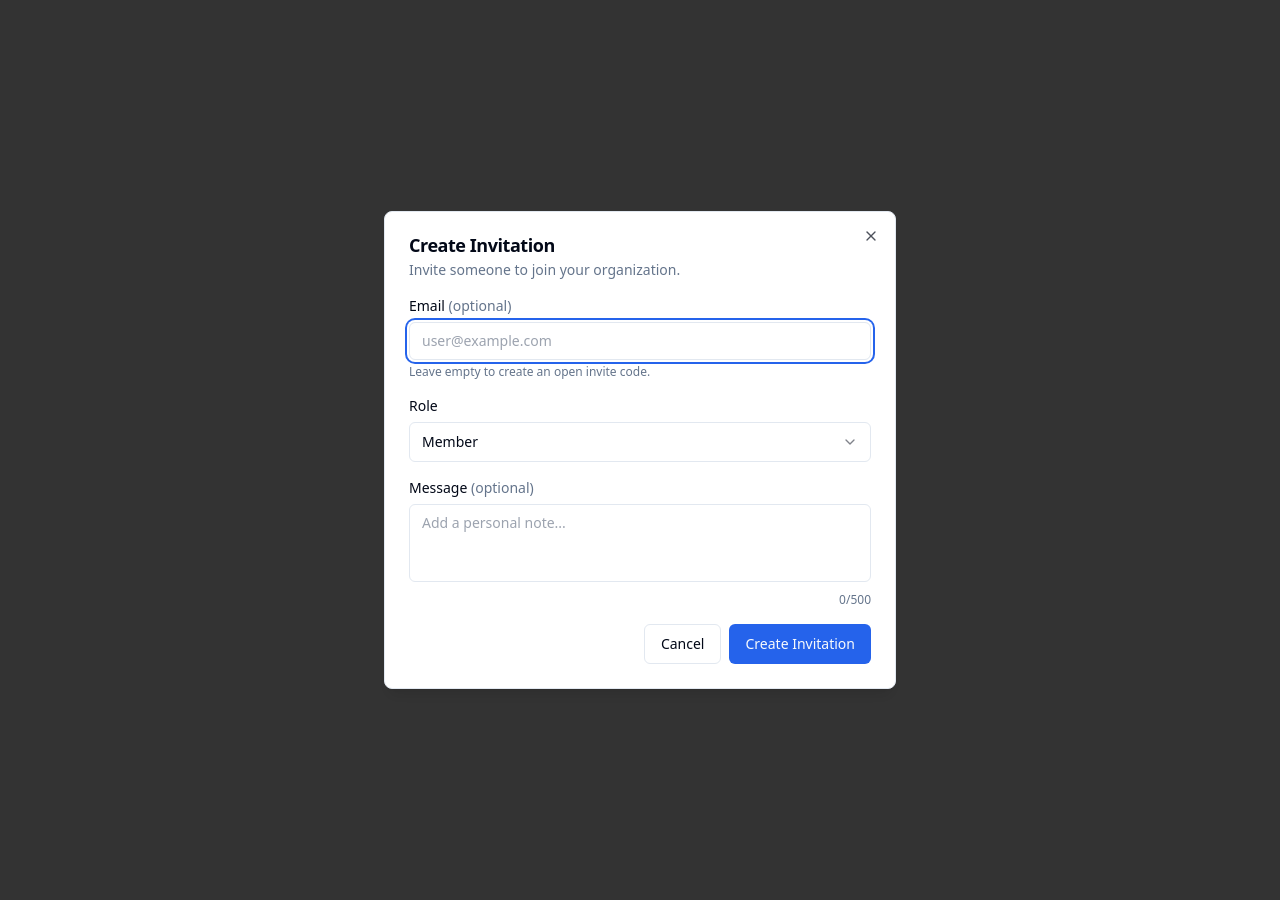
Test: CreateInvitationDialog › should show email validation error for invalid email
The width and height of the screenshot is (1280, 900).
Type "not-an-email" into the field labelled "Email (optional)" at (640, 341), box [409,322,871,360]
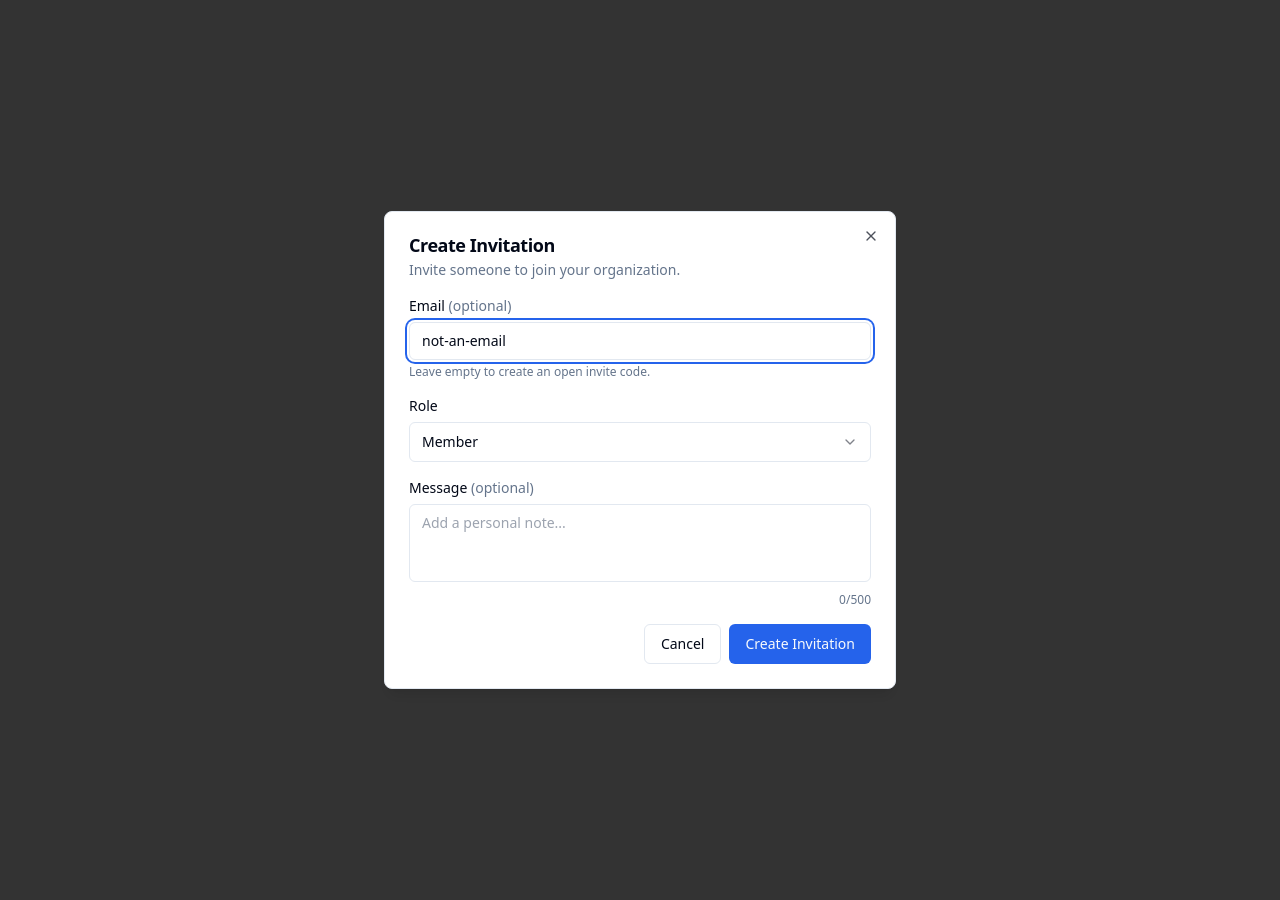
Press Tab
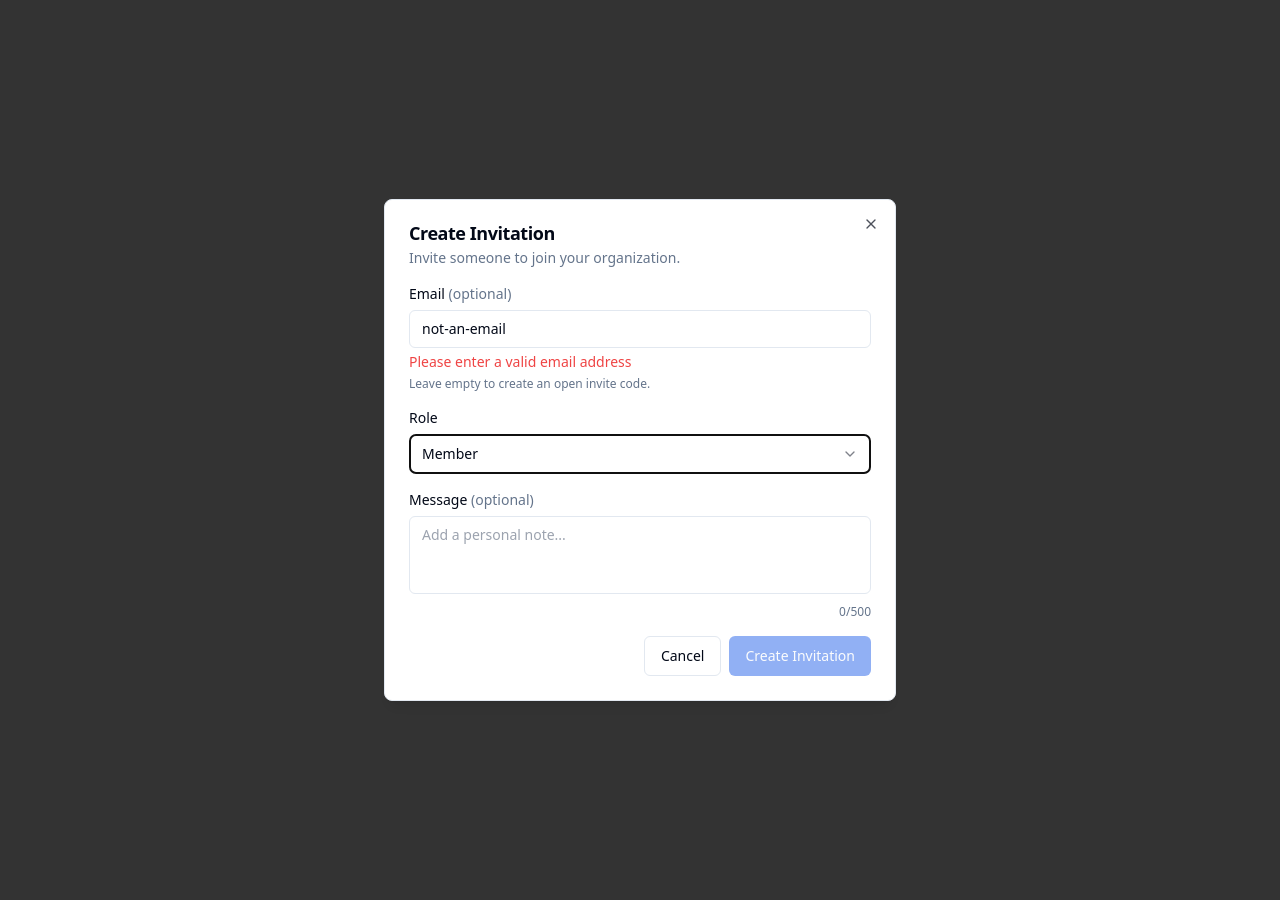
Expected: the text "Please enter a valid email address" is shown, [409,352,632,371]
